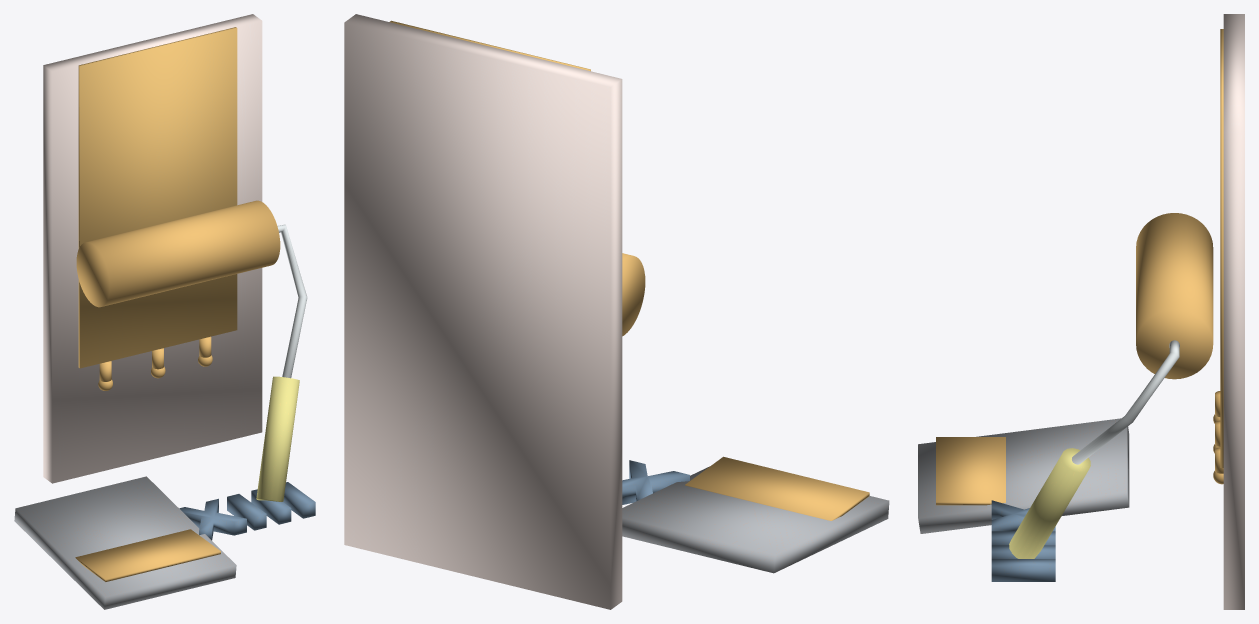
The model's file is paint-roller-kit.glb.
The picture shows the model from 3 angles, left to right: view 1: azimuth 30°, elevation 25°; view 2: azimuth 150°, elevation 25°; view 3: azimuth 270°, elevation 25°; orthographic projection. The views are drawn at different scales.
Visible parts, largest first — view 1: part0; view 2: part0; view 3: part0.
Part boxes in pixels (left/top/right/bottom): part0: left=14, top=14, right=315, bottom=609; part0: left=344, top=14, right=889, bottom=609; part0: left=918, top=14, right=1244, bottom=609.
Bounding box in the file's own units: 0.7228 × 1 × 0.6037.
Materials: 1 (1 with a texture image).
